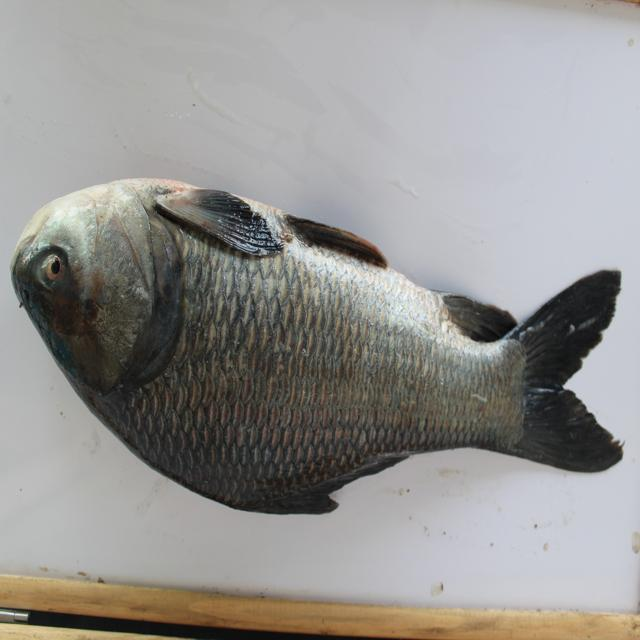Catla: (11, 165, 629, 524)
